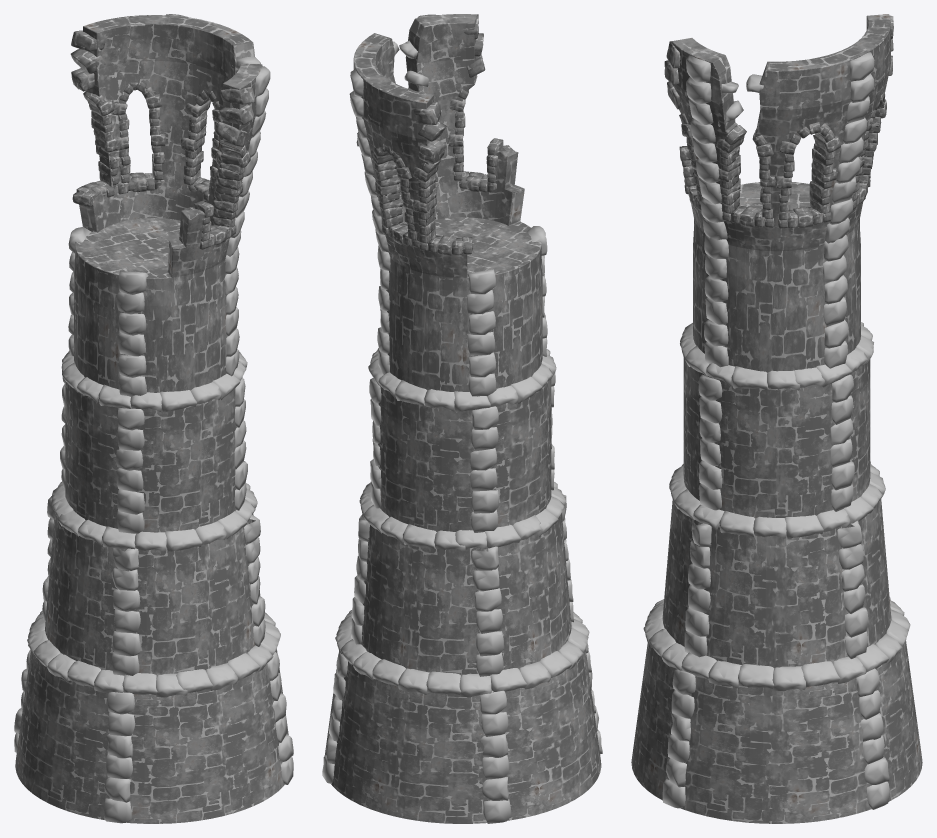
The model's file is TurmBaseOhneStairs.fbx.
The picture shows the model from 3 angles, left to right: view 1: azimuth 30°, elevation 25°; view 2: azimuth 150°, elevation 25°; view 3: azimuth 270°, elevation 25°; orthographic projection. The views are drawn at different scales.
Parts seen in each view (by area): view 1: TurmBaseOhneStairs; view 2: TurmBaseOhneStairs; view 3: TurmBaseOhneStairs.
Part boxes in pixels (box(x1,y1,x2,y2)): TurmBaseOhneStairs: box(14, 14, 293, 823); TurmBaseOhneStairs: box(322, 14, 602, 823); TurmBaseOhneStairs: box(631, 14, 922, 823).
Size of the model in its own units: 6.83 by 19.16 by 6.83.
